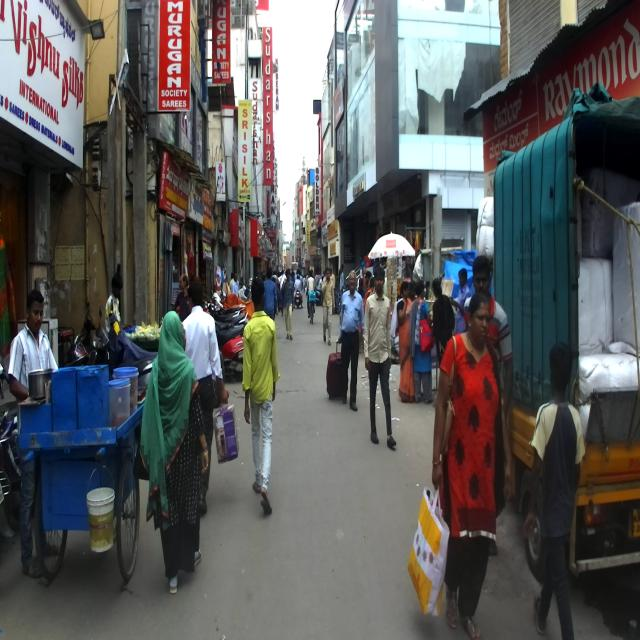person ahead at: (430, 285, 509, 627), (145, 306, 213, 604), (245, 274, 278, 520), (360, 264, 401, 454)
